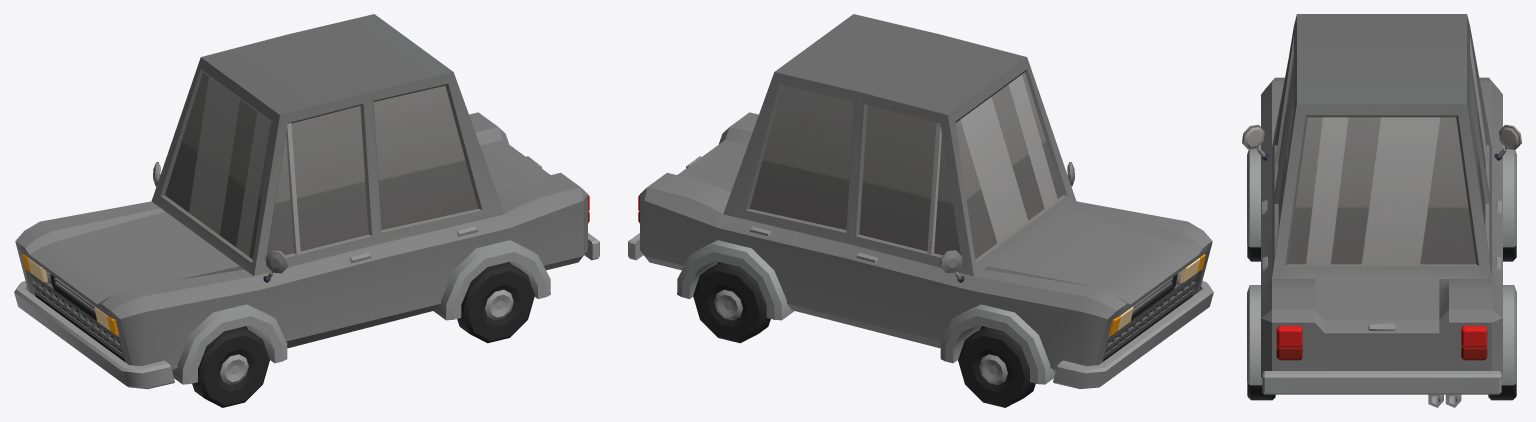
The model's file is Car_4_1_R.gltf.
3 renders of one model, left to right at view 1: azimuth 30°, elevation 25°; view 2: azimuth 150°, elevation 25°; view 3: azimuth 270°, elevation 25°, orthographic. The views are drawn at different scales.
Parts seen in each view (by area): view 1: Car_4_1_R, RL, FL; view 2: Car_4_1_R, RR, FR; view 3: Car_4_1_R, RL, RR.
Boxes of the visible parts, box(x1,y1,x2,y2) form: Car_4_1_R: box(14, 14, 599, 389); RL: box(457, 262, 534, 343); FL: box(192, 327, 269, 407); Car_4_1_R: box(628, 14, 1213, 389); RR: box(693, 262, 770, 343); FR: box(958, 327, 1035, 407); Car_4_1_R: box(1242, 14, 1521, 407); RL: box(1247, 383, 1275, 400); RR: box(1488, 383, 1516, 400).
Bounding box in the file's own units: 3.53 × 1.81 × 1.65.
Materials: 4 (4 with a texture image).
